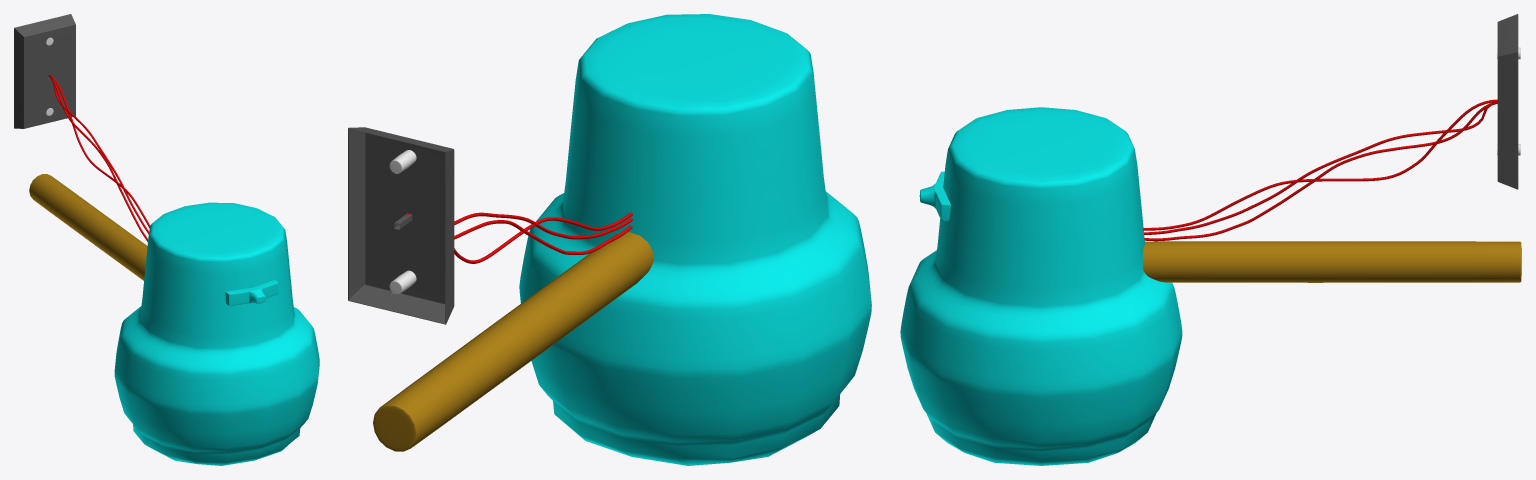
File: PROP_Chuveiro.fbx
3 renders of one model, left to right at view 1: azimuth 30°, elevation 25°; view 2: azimuth 150°, elevation 25°; view 3: azimuth 270°, elevation 25°, orthographic. The views are drawn at different scales.
Visible parts, largest first — view 1: Chuveiro, Base, Cano, Fios; view 2: Chuveiro, Base, Cano, Fios, Parafusos; view 3: Chuveiro, Cano, Fios, Base.
Part boxes in pixels (x1,y1,x2,y2): Chuveiro: [114, 202, 319, 465]; Base: [14, 14, 75, 128]; Cano: [29, 174, 147, 280]; Fios: [48, 75, 150, 241]; Chuveiro: [519, 14, 871, 465]; Base: [348, 127, 454, 324]; Cano: [373, 232, 653, 451]; Fios: [405, 212, 632, 263]; Parafusos: [389, 150, 416, 294]; Chuveiro: [900, 107, 1182, 465]; Cano: [1143, 241, 1521, 282]; Fios: [1143, 99, 1497, 241]; Base: [1497, 14, 1518, 189].
Bounding box in the file's own units: 2.74 × 4.21 × 6.03.
